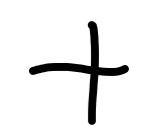plus: (29, 22, 129, 126)
